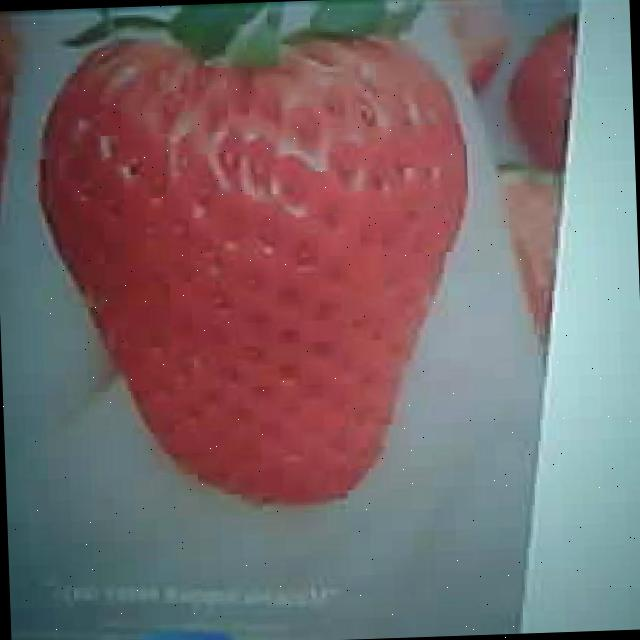strawberry: (32, 12, 476, 514)
